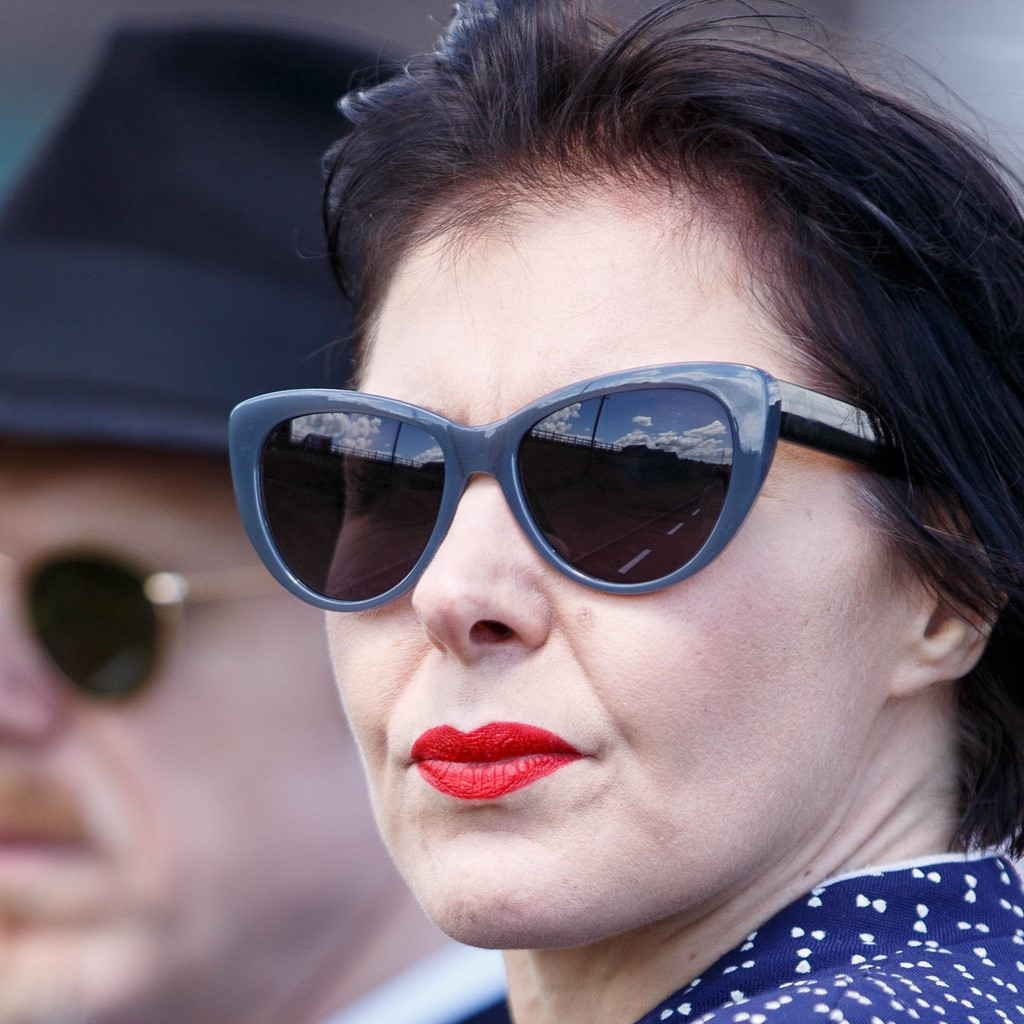sin_mascara: (284, 156, 933, 964)
